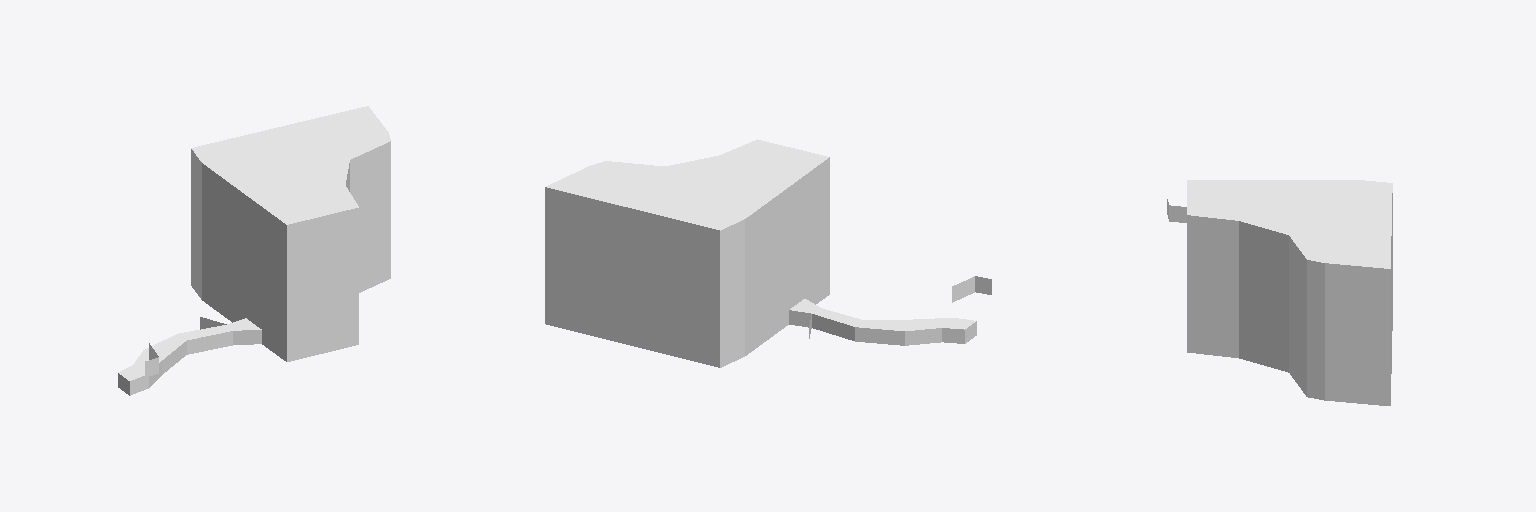
The model's file is map01_sect07.obj.
The picture shows the model from 3 angles: view 1: azimuth 30°, elevation 25°; view 2: azimuth 150°, elevation 25°; view 3: azimuth 270°, elevation 25°; orthographic projection.
Parts seen in each view (by area): view 1: MAP01; view 2: MAP01; view 3: MAP01.
Boxes of the visible parts, box(x1,y1,x2,y2) form: MAP01: box(118, 106, 390, 395); MAP01: box(545, 139, 991, 367); MAP01: box(1167, 180, 1392, 405).
Size of the model in its own units: 3104 by 1216 by 1808.